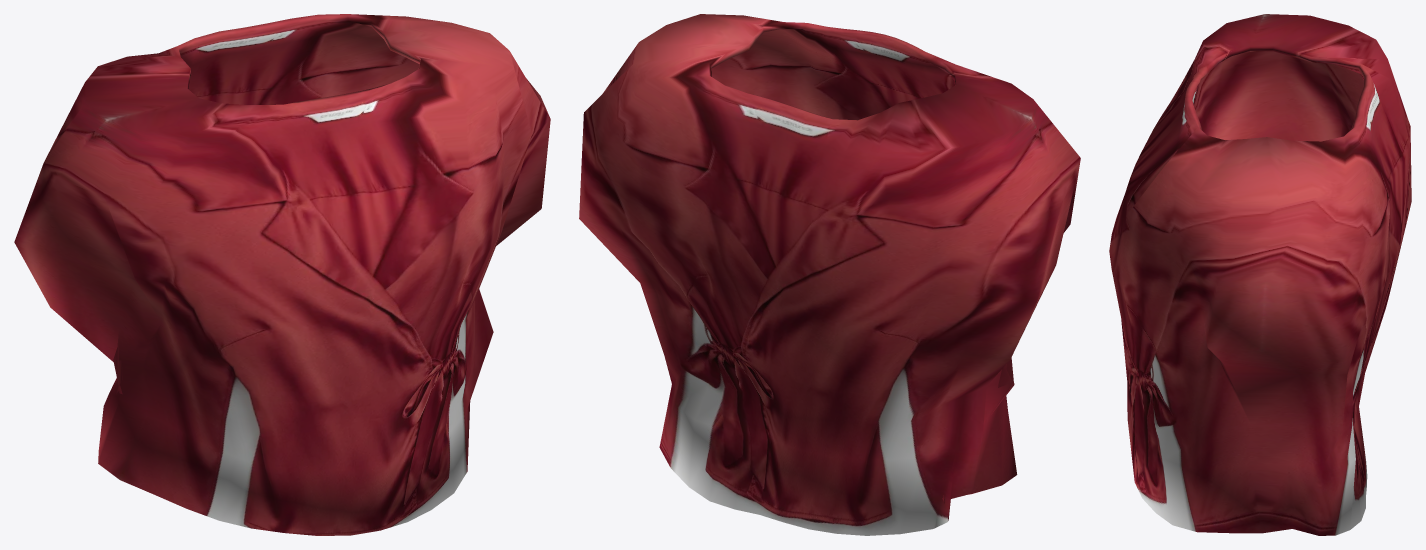
Rendered from feff540d-85bb-4609-9ecc-2ce4f48c6dc6.glb.
3 renders of one model, left to right at view 1: azimuth 30°, elevation 25°; view 2: azimuth 150°, elevation 25°; view 3: azimuth 270°, elevation 25°, orthographic. The views are drawn at different scales.
Parts seen in each view (by area): view 1: garment; view 2: garment; view 3: garment.
Boxes of the visible parts, x1=… form: garment: x1=14, y1=14, x2=550, y2=535; garment: x1=579, y1=14, x2=1080, y2=535; garment: x1=1109, y1=14, x2=1411, y2=535.
Size of the model in its own units: 0.5483 by 0.4613 by 0.3221.
1 material, 1 textured.
